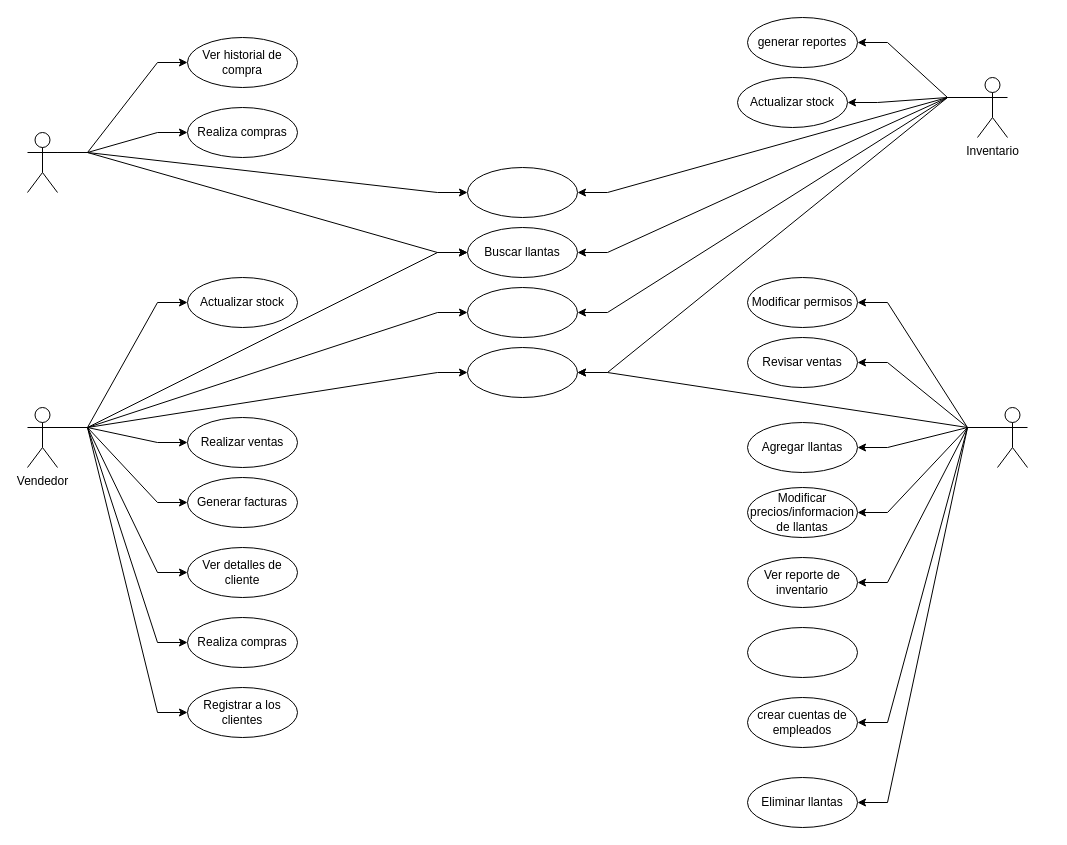
The diagram is 1067 pixels wide and 845 high, and some of its shapes have lost their labels. Each missing label, with the centre of its shape:
"Administrador" goes at pixel 1012 437.
"Cliente" goes at pixel 42 162.
"Comprar llantas" goes at pixel 802 652.
"Inicia sesion" goes at pixel 522 312.
"Ver detalles de llanta" goes at pixel 522 192.
"Ver inventario" goes at pixel 522 372.
